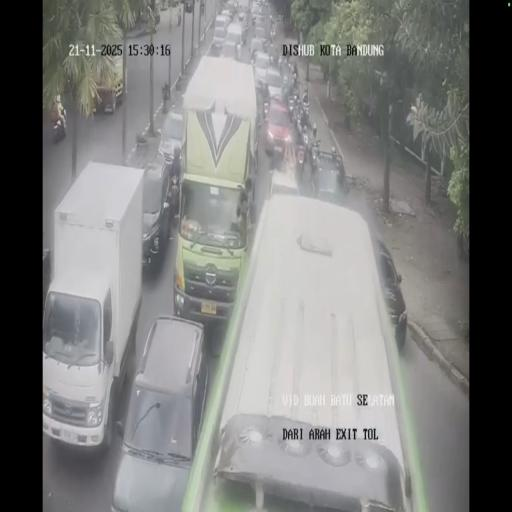car: (140, 159, 174, 272), (157, 109, 186, 192), (311, 149, 349, 207), (278, 61, 297, 105), (252, 48, 272, 89), (224, 21, 244, 58), (214, 14, 229, 34), (252, 11, 266, 30), (210, 38, 224, 56), (224, 0, 238, 18), (238, 6, 245, 20)
motorcycle: (296, 93, 312, 136)
truck: (40, 162, 146, 454), (174, 55, 260, 333)
